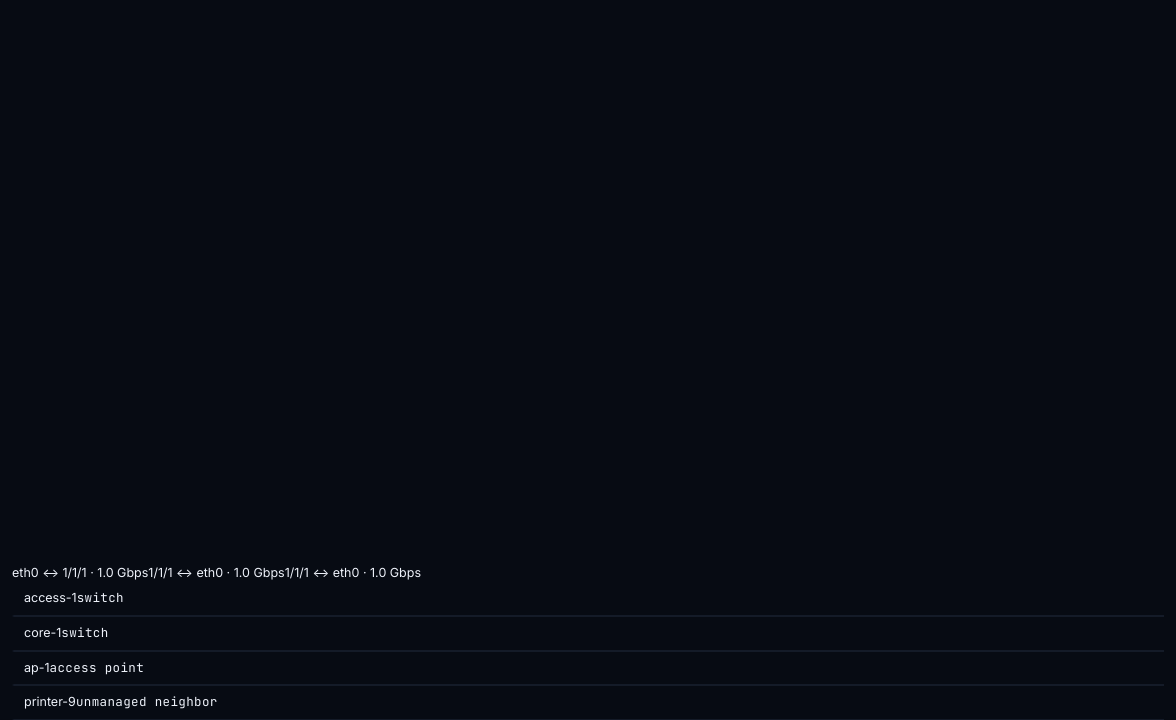
Scenario: SiteTopologyDiagram — entering focus › a plain click on a card with no other action focuses it
This screenshot has width=1176, height=720.
(page scrolled)
Note: printer-9 is an unmanaged neighbour: no device page, no group.
Click the button with aria-label "Focus printer-9": x=50, y=702 [12,685,1164,719]
(page scrolled)
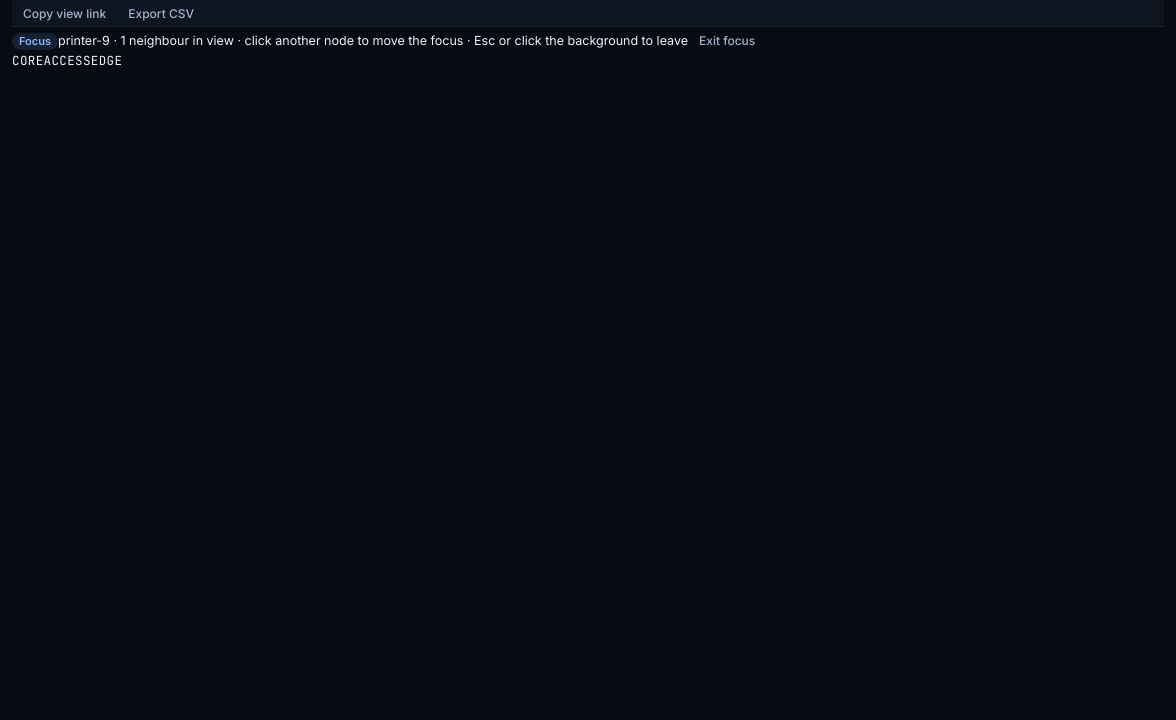
Expected: the text "printer-9 · 1 neighbour in view" is shown, [58,32,688,48]
